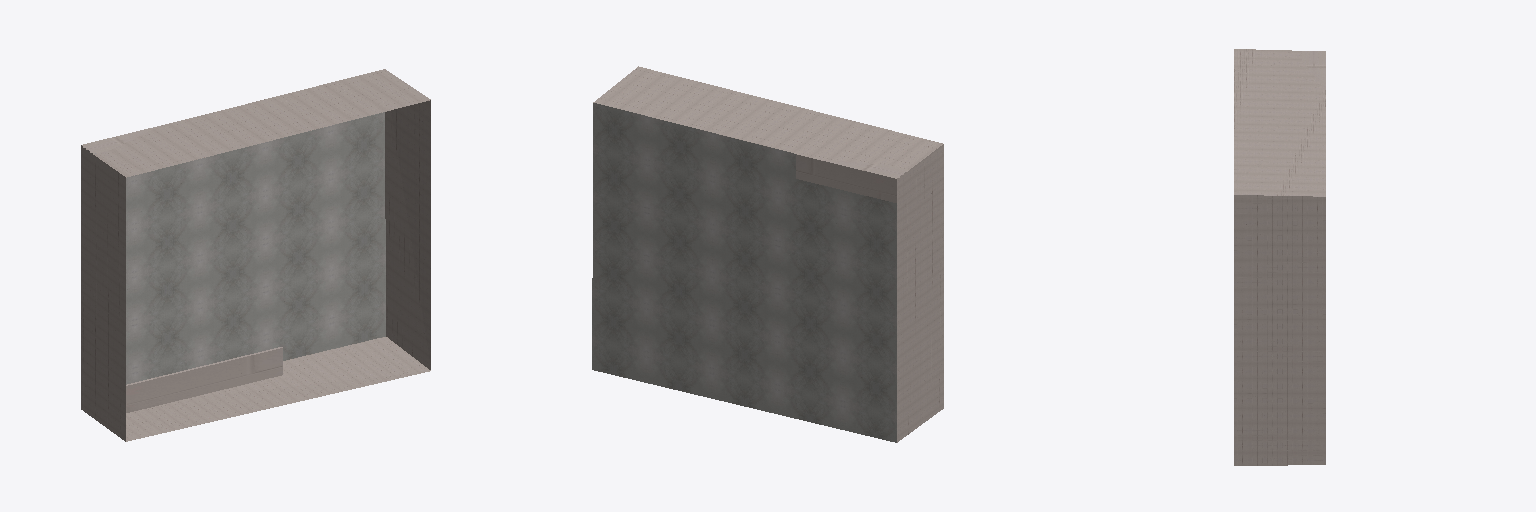
3 views of the same model, side by side, from view 1: azimuth 30°, elevation 25°; view 2: azimuth 150°, elevation 25°; view 3: azimuth 270°, elevation 25° (orthographic).
Parts seen in each view (by area): view 1: Plane; view 2: Plane; view 3: Plane.
Part boxes in pixels (left/top/right/bottom): Plane: left=81, top=69, right=430, bottom=441; Plane: left=592, top=66, right=943, bottom=442; Plane: left=1234, top=49, right=1325, bottom=465.
Size of the model in its own units: 10.25 by 8.67 by 2.69.
Materials: 3 (2 with a texture image).